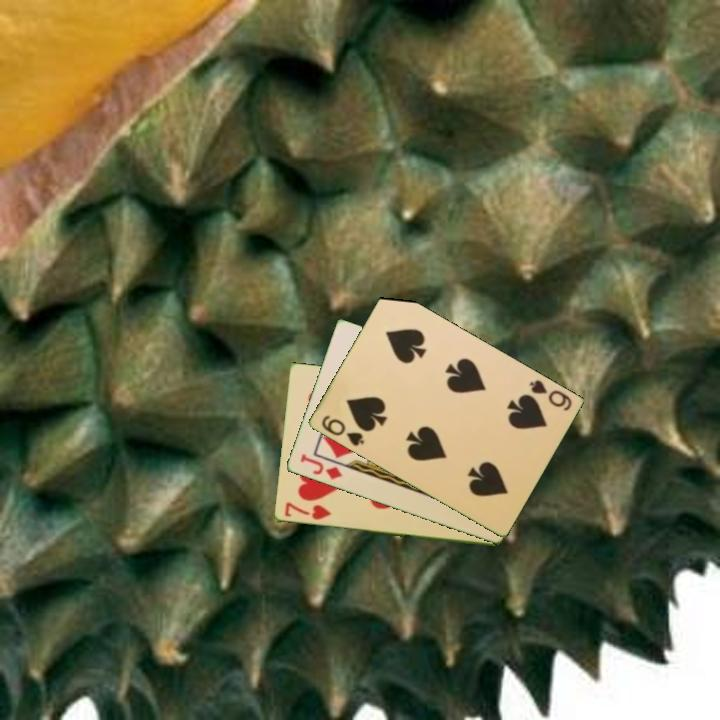6s: (525, 376, 574, 414), (318, 412, 367, 449)
7h: (281, 499, 333, 523)
Jd: (296, 451, 345, 483)
